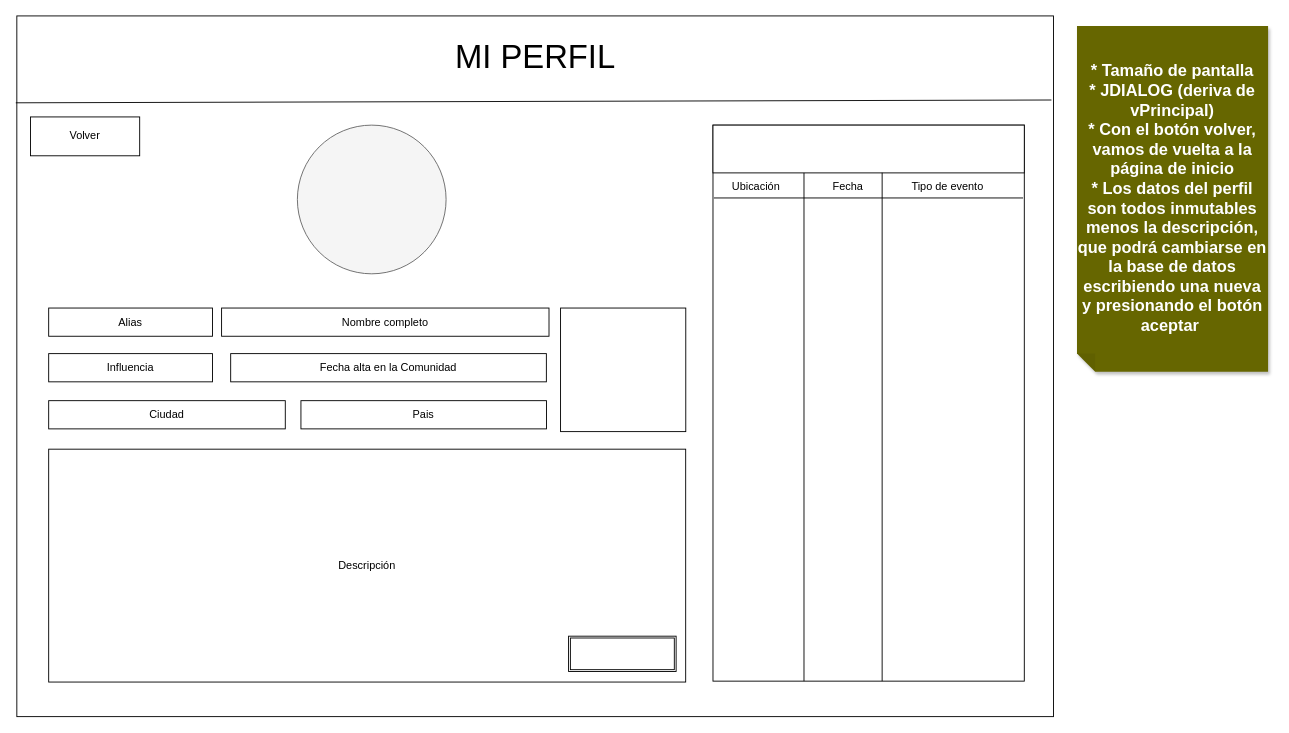
This 1289x733 diagram has some shape labels left out. Here are the shapes that lost their labels. From the top down, the centre of each, then its label:
At (x=868, y=148): "EVENTOS".
At (x=371, y=199): "IMAGEN DE USUARIO".
At (x=623, y=369): "División Data".
At (x=622, y=653): "Aceptar".
